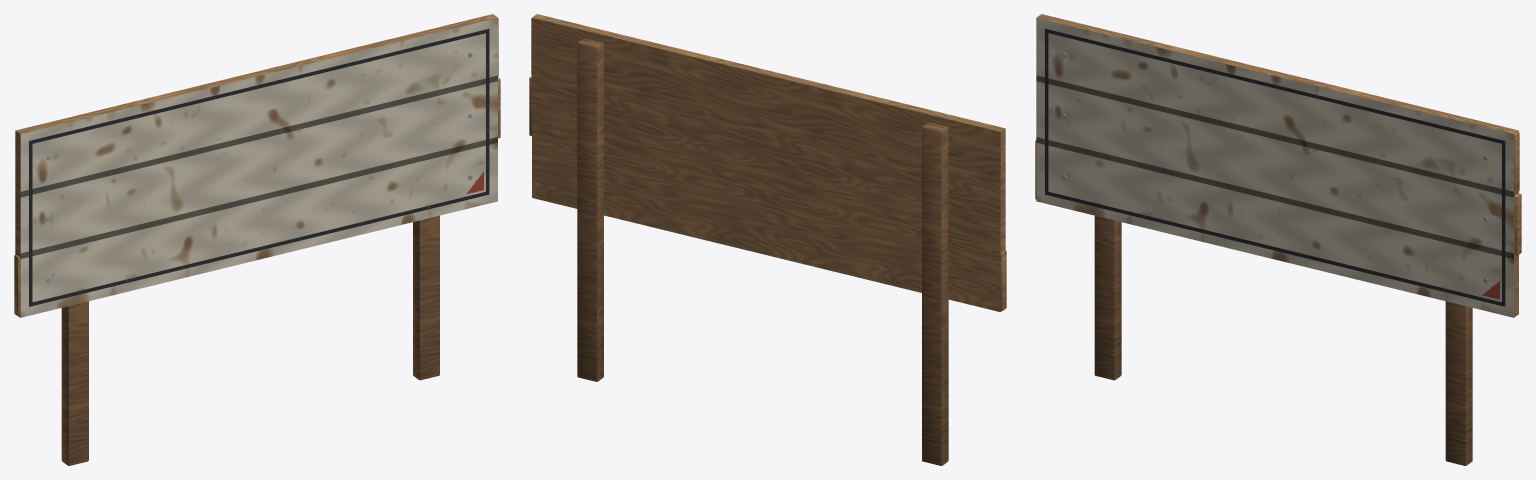
Rendered from signboard.glb.
3 views of the same model, side by side, from view 1: azimuth 30°, elevation 25°; view 2: azimuth 150°, elevation 25°; view 3: azimuth 330°, elevation 25° (orthographic).
Parts seen in each view (by area): view 1: SignboardMesh; view 2: SignboardMesh; view 3: SignboardMesh.
Part boxes in pixels (left/top/right/bottom): SignboardMesh: left=14, top=14, right=500, bottom=465; SignboardMesh: left=529, top=14, right=1006, bottom=465; SignboardMesh: left=1035, top=14, right=1521, bottom=465.
Size of the model in its own units: 1.38 by 0.95 by 0.062.
Materials: 4 (4 with a texture image).
